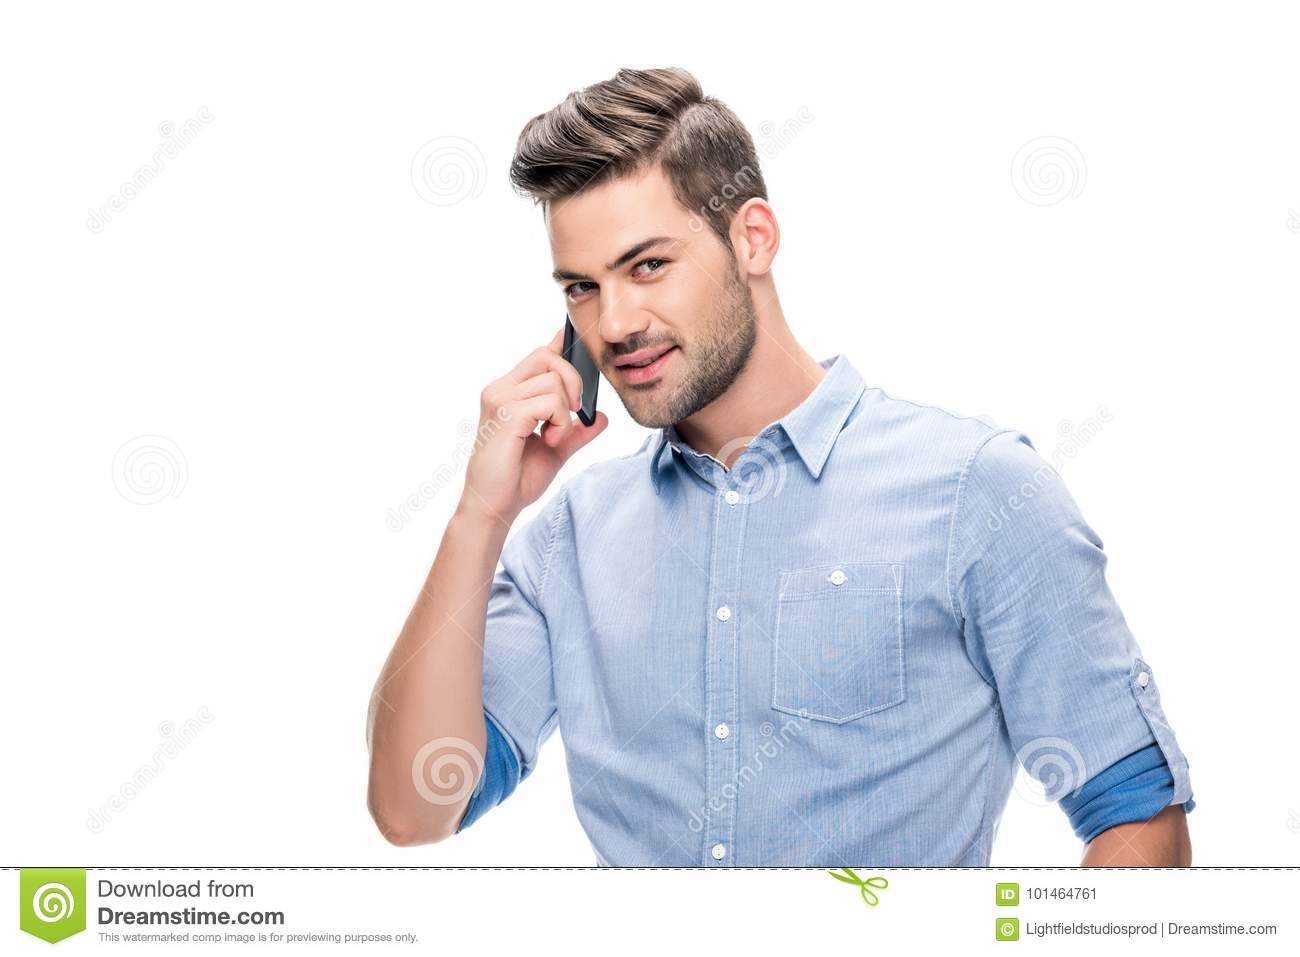phone: (555, 311, 604, 432)
talk: (462, 231, 709, 508)
